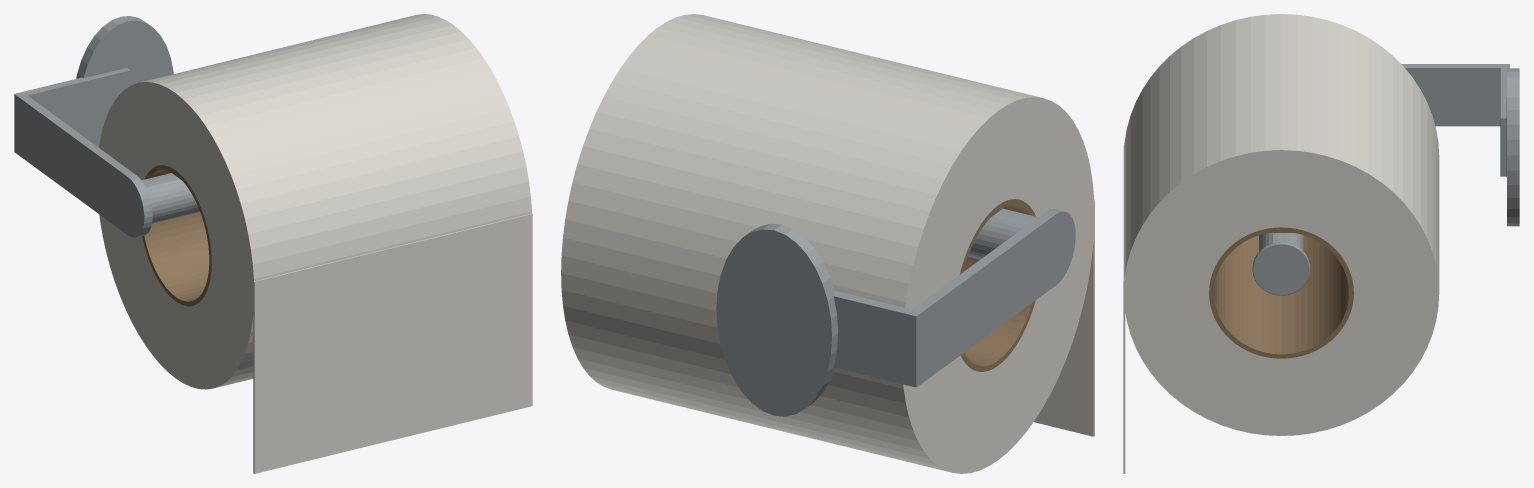
3 renders of one model, left to right at view 1: azimuth 30°, elevation 25°; view 2: azimuth 150°, elevation 25°; view 3: azimuth 270°, elevation 25°, orthographic. The views are drawn at different scales.
Visible parts, largest first — view 1: Paper_roll_and_connected_short_end, Holder_connected_metal, Hollow_cardboard_core; view 2: Paper_roll_and_connected_short_end, Holder_connected_metal, Hollow_cardboard_core; view 3: Paper_roll_and_connected_short_end, Hollow_cardboard_core, Holder_connected_metal.
Part boxes in pixels (<box>): Paper_roll_and_connected_short_end: <box>99,14,532,473</box>; Holder_connected_metal: <box>14,16,199,237</box>; Hollow_cardboard_core: <box>142,165,211,306</box>; Paper_roll_and_connected_short_end: <box>561,14,1094,473</box>; Holder_connected_metal: <box>716,208,1075,416</box>; Hollow_cardboard_core: <box>959,199,1035,371</box>; Paper_roll_and_connected_short_end: <box>1123,14,1439,473</box>; Hollow_cardboard_core: <box>1209,227,1353,358</box>; Holder_connected_metal: <box>1252,64,1519,295</box>.
Size of the model in its own units: 0.13 by 0.111 by 0.1231.
